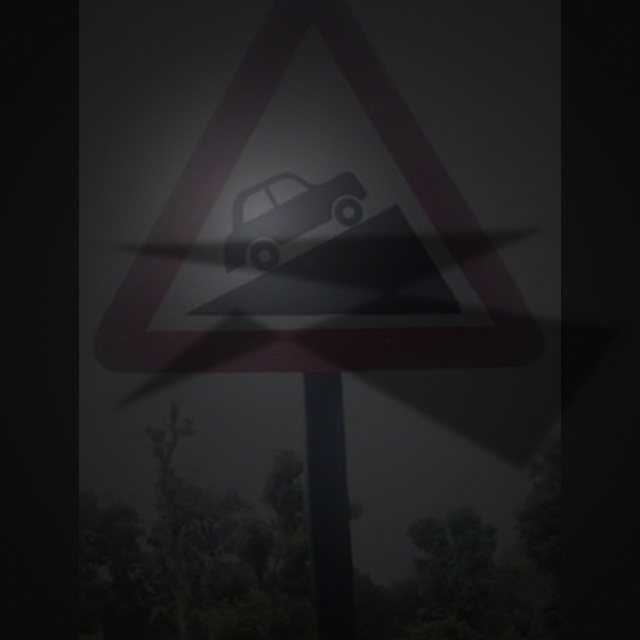Steep_Ascent: (134, 45, 503, 358)
